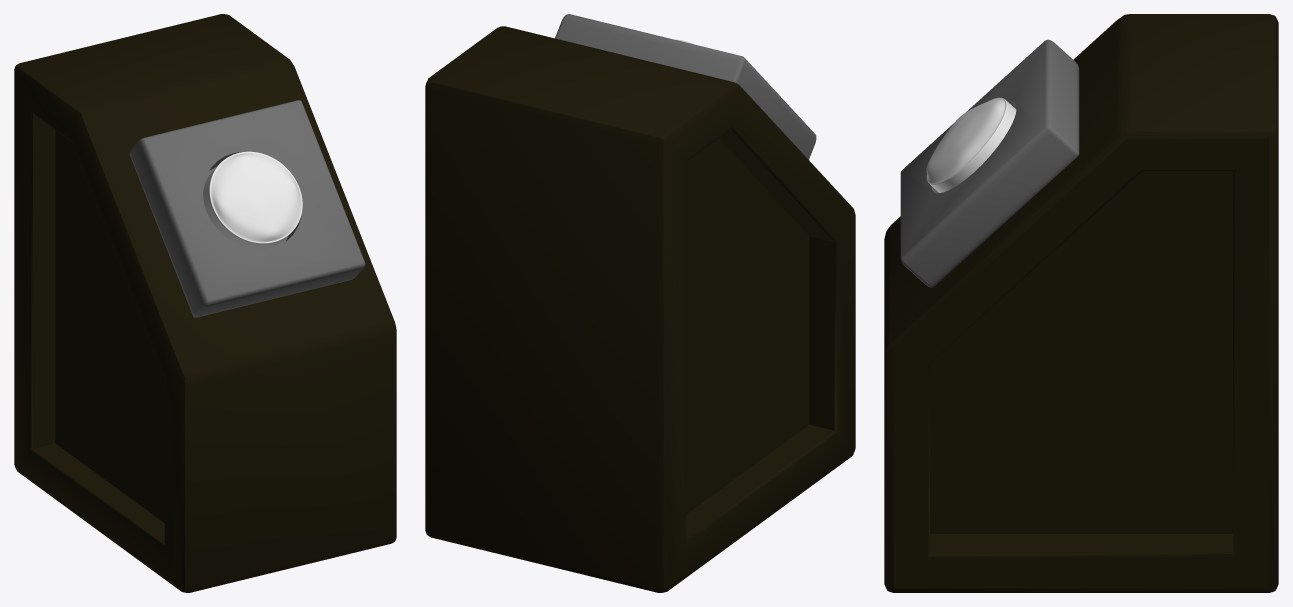
The model's file is push.fbx.
3 renders of one model, left to right at view 1: azimuth 30°, elevation 25°; view 2: azimuth 150°, elevation 25°; view 3: azimuth 270°, elevation 25°, orthographic. The views are drawn at different scales.
Parts seen in each view (by area): view 1: Cube.017, Cube.018, Cylinder.008; view 2: Cube.017, Cube.018; view 3: Cube.017, Cube.018, Cylinder.008.
Boxes of the visible parts, x1,y1,x2,y2 form: Cube.017: [14, 14, 396, 592]; Cube.018: [129, 100, 365, 317]; Cylinder.008: [203, 151, 302, 249]; Cube.017: [425, 26, 855, 592]; Cube.018: [555, 14, 816, 159]; Cube.017: [884, 14, 1278, 592]; Cube.018: [900, 39, 1079, 287]; Cylinder.008: [926, 97, 1016, 192].
Size of the model in its own units: 62.15 by 112 by 86.22.
